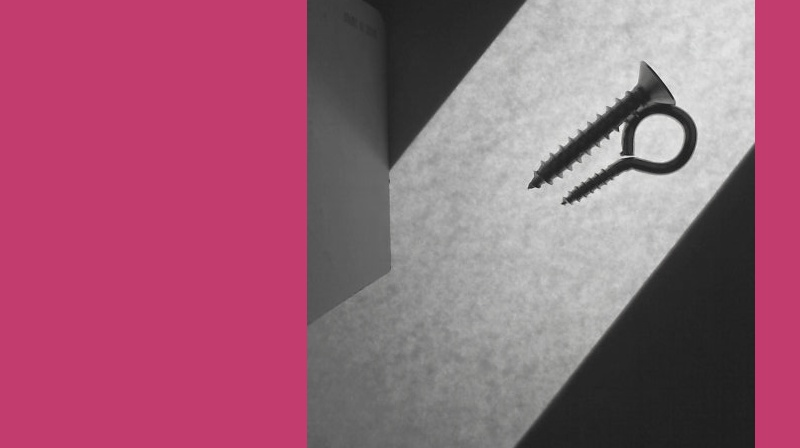O001: (561, 98, 697, 207)
S001: (525, 59, 675, 191)
